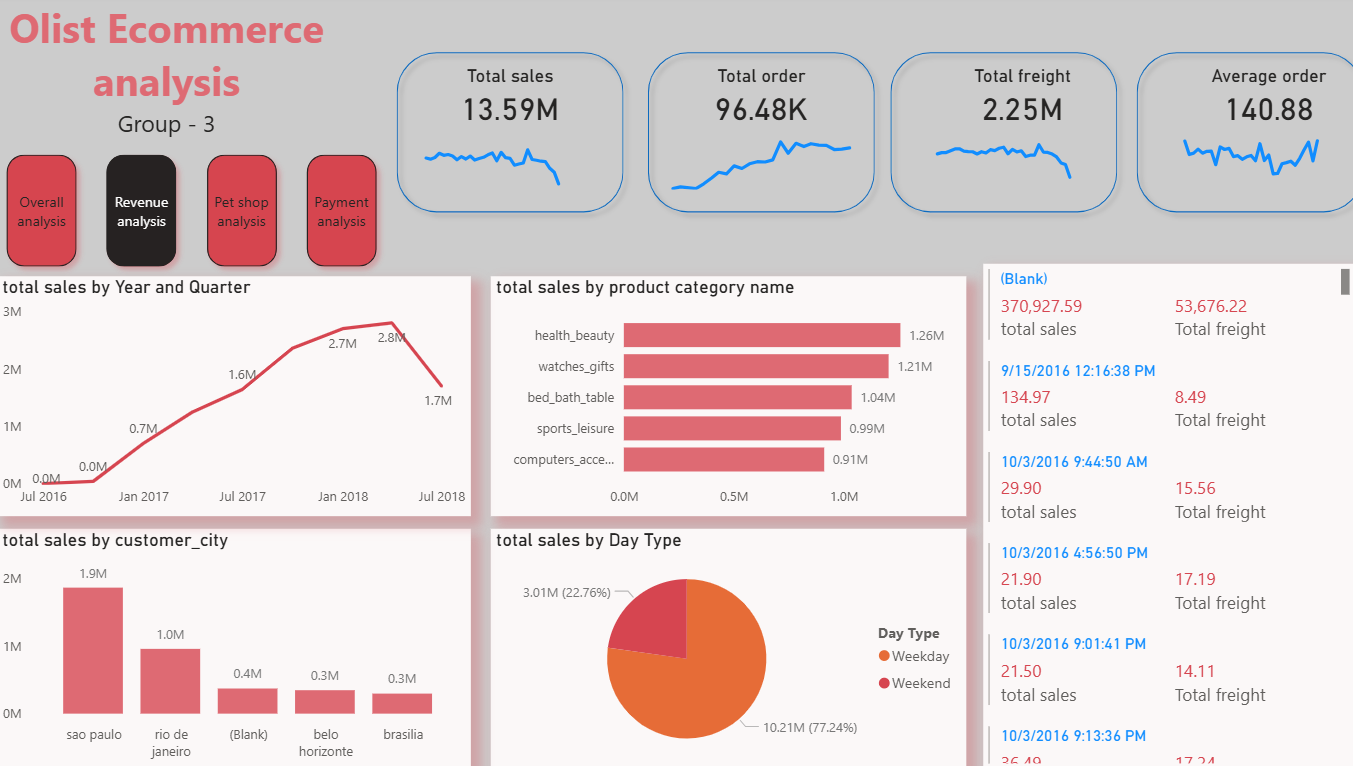

What the dashboard file says about the page in this screenshot:
{"tool":"powerbi","page":{"name":"Revenue analysis","canvas":[1280,720],"ordinal":1},"visuals":[{"type":"card","title":"Total sales","fields":{"Values":["olist_order_items_dataset.total revenue"]},"box":[380.2,64.8,194.4,59],"z":0},{"type":"card","title":"Total order","fields":{"Values":["olist_orders_dataset.Total Orders"]},"box":[613.4,64.8,194.4,59],"z":1000},{"type":"card","title":"Average order","fields":{"Values":["olist_orders_dataset.average order value"]},"box":[1085.8,64.8,194.4,59],"z":2000},{"type":"card","title":"Total freight","fields":{"Values":["olist_order_items_dataset.Total freight"]},"box":[856.8,64.8,194.4,59],"z":3000},{"type":"card","title":"Revenue per Order","fields":{"Values":["olist_orders_dataset.Revenue per Order"]},"box":[250.6,355.7,190.1,67.7],"z":4000},{"type":"barChart","title":"total sales by product category name","fields":{"Category":["product_category_name_translation.Column2"],"Y":["olist_order_items_dataset.total sales"]},"box":[459.4,262.1,442.1,223.2],"z":5000},{"type":"pieChart","fields":{"Category":["olist_orders_dataset.Day Type"],"Y":["olist_order_items_dataset.total sales"]},"box":[459.4,496.8,442.1,223.2],"z":6000},{"type":"columnChart","fields":{"Y":["olist_order_items_dataset.total sales"],"Category":["olist_customers_dataset.customer_city"]},"box":[0,496.8,440.6,223.2],"z":7000},{"type":"multiRowCard","fields":{"Values":["olist_orders_dataset.order_purchase_timestamp.Variation.Date Hierarchy.Month","olist_order_items_dataset.total sales","olist_order_items_dataset.Total freight"]},"box":[917.3,250.6,345.6,469.4],"z":8000},{"type":"lineChart","fields":{"Y":["olist_order_items_dataset.total sales"],"Category":["olist_orders_dataset.order_purchase_timestamp.Variation.Date Hierarchy.Year","olist_orders_dataset.order_purchase_timestamp.Variation.Date Hierarchy.Quarter","olist_orders_dataset.order_purchase_timestamp.Variation.Date Hierarchy.Month","olist_orders_dataset.order_purchase_timestamp.Variation.Date Hierarchy.Day"]},"box":[0,262.1,440.6,223.2],"z":9000},{"type":"textbox","box":[0,0,315.4,162.7],"z":10000},{"type":"pageNavigator","box":[0,139.7,362.9,122.4],"z":11000},{"type":"lineChart","fields":{"Category":["olist_orders_dataset.order_purchase_timestamp.Variation.Date Hierarchy.Day"],"Y":["olist_order_items_dataset.total sales"]},"box":[380.2,118.1,194.4,67.7],"z":12000},{"type":"lineChart","fields":{"Category":["olist_orders_dataset.order_purchase_timestamp.Variation.Date Hierarchy.Year","olist_orders_dataset.order_purchase_timestamp.Variation.Date Hierarchy.Quarter","olist_orders_dataset.order_purchase_timestamp.Variation.Date Hierarchy.Month","olist_orders_dataset.order_purchase_timestamp.Variation.Date Hierarchy.Day"],"Y":["olist_orders_dataset.Total Orders"]},"box":[613.4,118.1,194.4,67.7],"z":13000},{"type":"lineChart","fields":{"Category":["olist_orders_dataset.order_purchase_timestamp.Variation.Date Hierarchy.Day"],"Y":["olist_orders_dataset.average order value"]},"box":[1085.8,115.2,194.4,67.7],"z":14000},{"type":"lineChart","fields":{"Category":["olist_orders_dataset.order_purchase_timestamp.Variation.Date Hierarchy.Year","olist_orders_dataset.order_purchase_timestamp.Variation.Date Hierarchy.Quarter","olist_orders_dataset.order_purchase_timestamp.Variation.Date Hierarchy.Month","olist_orders_dataset.order_purchase_timestamp.Variation.Date Hierarchy.Day"],"Y":["olist_order_items_dataset.Total freight"]},"box":[855.4,115.2,194.4,70.6],"z":15000},{"type":"shape","box":[1051.2,44.6,229,167],"z":16000},{"type":"shape","box":[822.2,44.6,229,167],"z":17000},{"type":"shape","box":[596.2,44.6,229,167],"z":18000},{"type":"shape","box":[362.9,44.6,229,167],"z":19000}]}

Visuals, with their boxes in screenshot pixels (x1, y1, x2, y2), scaled from the page's 1280x720 canvas onto the 1353x766 screenshot:
"Total sales" card: box=[402, 69, 607, 132]
"Total order" card: box=[648, 69, 854, 132]
"Average order" card: box=[1148, 69, 1352, 132]
"Total freight" card: box=[906, 69, 1111, 132]
"Revenue per Order" card: box=[265, 378, 466, 450]
"total sales by product category name" barChart: box=[486, 279, 953, 516]
pieChart - olist_orders_dataset.Day Type x olist_order_items_dataset.total sales: box=[486, 529, 953, 765]
columnChart - olist_order_items_dataset.total sales x olist_customers_dataset.customer_city: box=[0, 529, 466, 765]
multiRowCard - olist_orders_dataset.order_purchase_timestamp.Variation.Date Hierarchy.Month x olist_order_items_dataset.total sales: box=[970, 267, 1335, 765]
lineChart - olist_order_items_dataset.total sales x olist_orders_dataset.order_purchase_timestamp.Variation.Date Hierarchy.Year: box=[0, 279, 466, 516]
textbox: box=[0, 0, 333, 173]
pageNavigator: box=[0, 149, 384, 279]
lineChart - olist_orders_dataset.order_purchase_timestamp.Variation.Date Hierarchy.Day x olist_order_items_dataset.total sales: box=[402, 126, 607, 198]
lineChart - olist_orders_dataset.order_purchase_timestamp.Variation.Date Hierarchy.Year x olist_orders_dataset.order_purchase_timestamp.Variation.Date Hierarchy.Quarter: box=[648, 126, 854, 198]
lineChart - olist_orders_dataset.order_purchase_timestamp.Variation.Date Hierarchy.Day x olist_orders_dataset.average order value: box=[1148, 123, 1352, 195]
lineChart - olist_orders_dataset.order_purchase_timestamp.Variation.Date Hierarchy.Year x olist_orders_dataset.order_purchase_timestamp.Variation.Date Hierarchy.Quarter: box=[904, 123, 1110, 198]
shape: box=[1111, 47, 1352, 225]
shape: box=[869, 47, 1111, 225]
shape: box=[630, 47, 872, 225]
shape: box=[384, 47, 626, 225]
